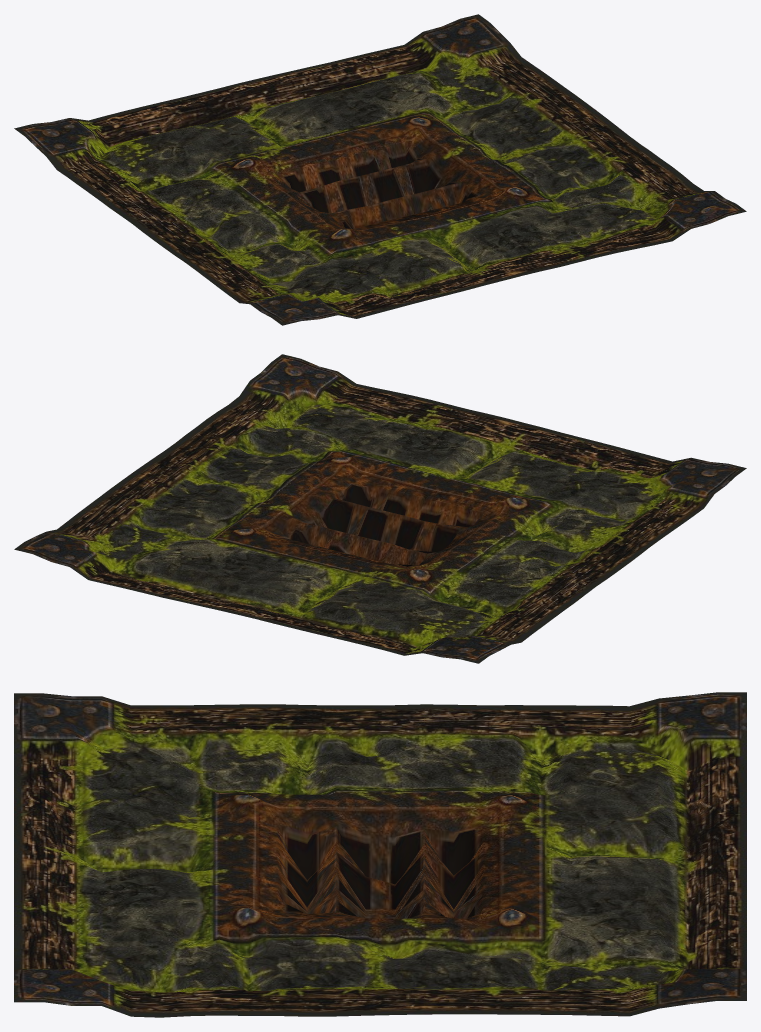
The model's file is prison-floor-4.glb.
3 renders of one model, top to bottom at view 1: azimuth 30°, elevation 25°; view 2: azimuth 150°, elevation 25°; view 3: azimuth 270°, elevation 25°, orthographic. The views are drawn at different scales.
Visible parts, largest first — view 1: floortile4; view 2: floortile4; view 3: floortile4.
Part boxes in pixels (box(x1,y1,x2,y2)): floortile4: box(14, 14, 746, 325); floortile4: box(14, 354, 746, 663); floortile4: box(14, 692, 746, 1017).
Bounding box in the file's own units: 2 × 0.2114 × 2.
Materials: 1 (1 with a texture image).
